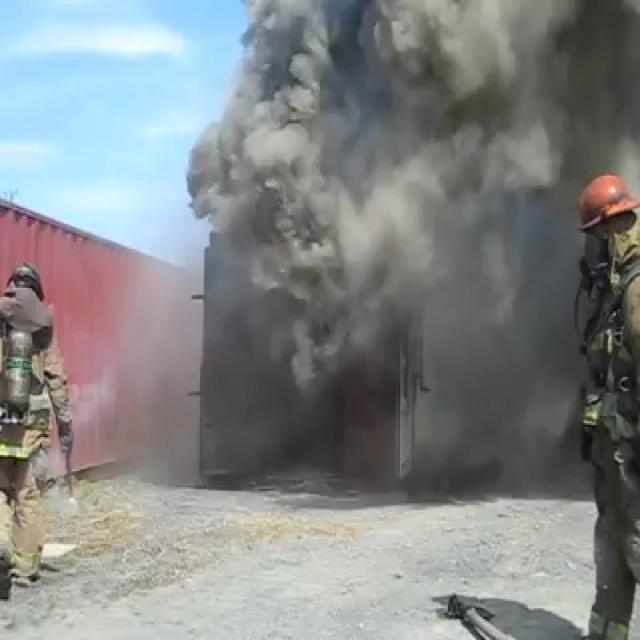Smoke: (196, 0, 575, 391)
